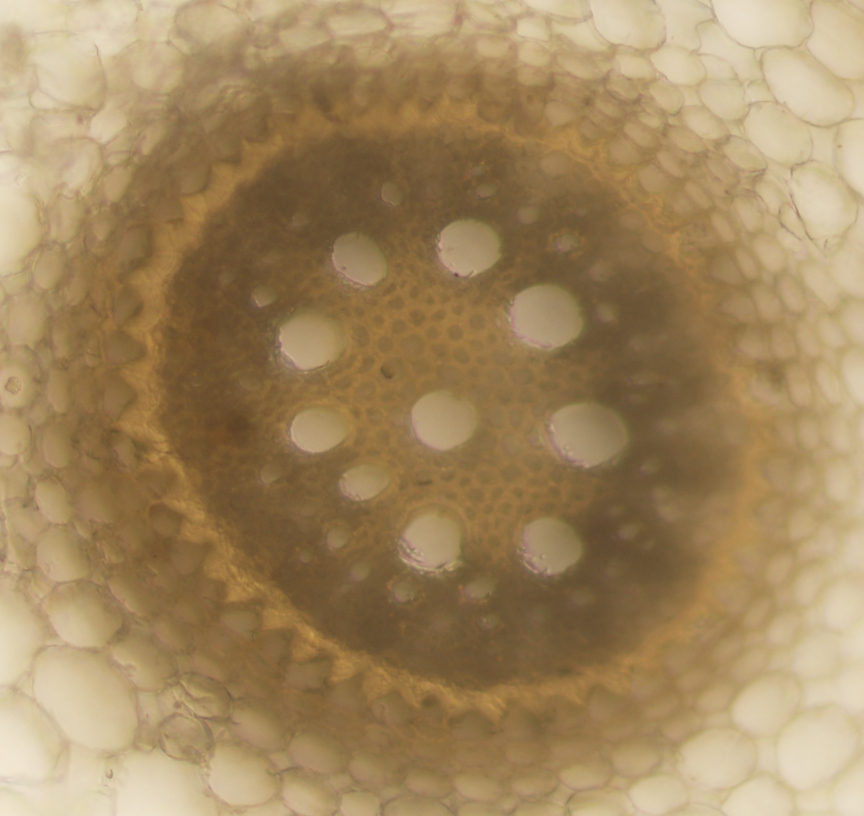lm: (548, 402, 633, 466), (510, 281, 586, 352), (396, 509, 464, 573), (277, 306, 346, 369), (411, 389, 481, 451), (437, 217, 503, 278), (519, 517, 584, 577), (330, 230, 389, 286), (288, 405, 354, 452), (338, 463, 392, 501)
